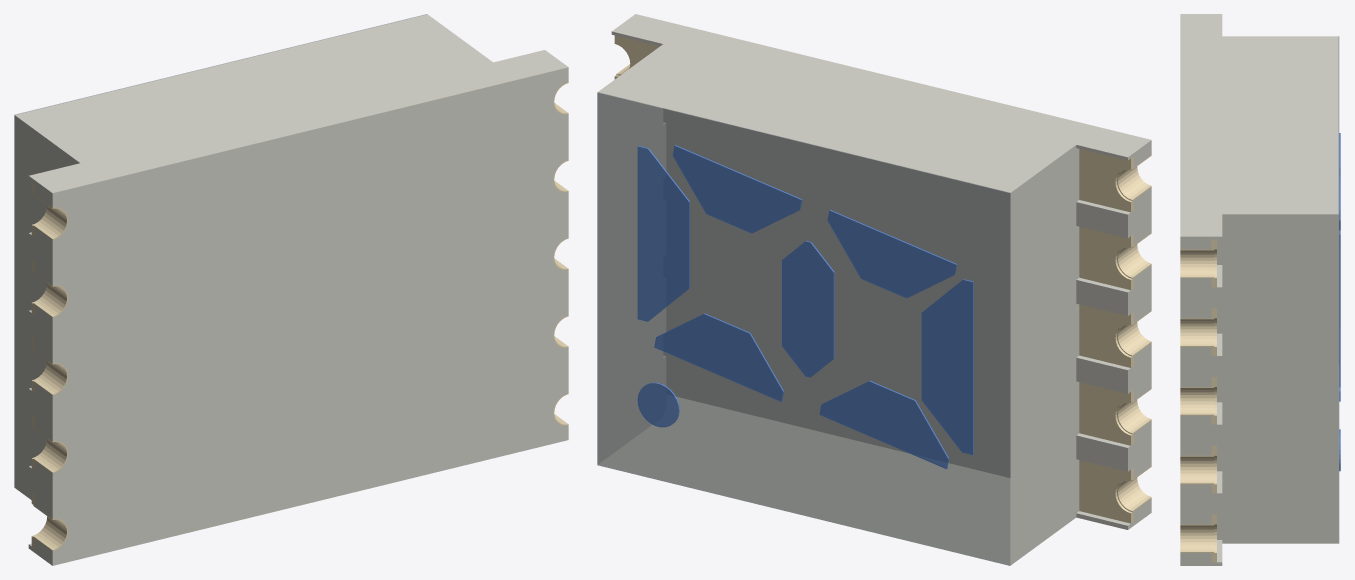
The model's file is KCSC02-136.glb.
3 views of the same model, side by side, from view 1: azimuth 30°, elevation 25°; view 2: azimuth 150°, elevation 25°; view 3: azimuth 270°, elevation 25° (orthographic). The views are drawn at different scales.
Parts seen in each view (by area): view 1: Shape_IndexedFaceSet.077, Shape_IndexedFaceSet.063, Shape_IndexedFaceSet.065, Shape_IndexedFaceSet.124, Shape_IndexedFaceSet.118, Shape_IndexedFaceSet.122, Shape_IndexedFaceSet.120, Shape_IndexedFaceSet.053; view 2: Shape_IndexedFaceSet, Shape_IndexedFaceSet.077, Shape_IndexedFaceSet.063, Shape_IndexedFaceSet.064, Shape_IndexedFaceSet.065, Shape_IndexedFaceSet.062, Shape_IndexedFaceSet.061, Shape_IndexedFaceSet.057, Shape_IndexedFaceSet.059, Shape_IndexedFaceSet.054, Shape_IndexedFaceSet.060, Shape_IndexedFaceSet.058 (+21 smaller); view 3: Shape_IndexedFaceSet.063, Shape_IndexedFaceSet.062, Shape_IndexedFaceSet.073, Shape_IndexedFaceSet.071, Shape_IndexedFaceSet.067, Shape_IndexedFaceSet.069, Shape_IndexedFaceSet.075, Shape_IndexedFaceSet.096, Shape_IndexedFaceSet.104, Shape_IndexedFaceSet.108, Shape_IndexedFaceSet.100, Shape_IndexedFaceSet.050 (+17 smaller).
Boxes of the visible parts, x1,y1,x2,y2 form: Shape_IndexedFaceSet.077: (52,67,568,565); Shape_IndexedFaceSet.063: (16,15,568,193); Shape_IndexedFaceSet.065: (15,116,79,499); Shape_IndexedFaceSet.124: (28,228,52,284); Shape_IndexedFaceSet.118: (28,462,52,517); Shape_IndexedFaceSet.122: (28,306,52,361); Shape_IndexedFaceSet.120: (28,384,52,439); Shape_IndexedFaceSet.053: (14,115,15,488); Shape_IndexedFaceSet: (597,93,1010,565); Shape_IndexedFaceSet.077: (663,108,1010,477); Shape_IndexedFaceSet.063: (599,14,1151,191); Shape_IndexedFaceSet.064: (599,397,1010,564); Shape_IndexedFaceSet.065: (1011,145,1076,564); Shape_IndexedFaceSet.062: (599,92,662,463); Shape_IndexedFaceSet.061: (637,146,689,321); Shape_IndexedFaceSet.057: (921,280,972,454); Shape_IndexedFaceSet.059: (782,241,833,377); Shape_IndexedFaceSet.054: (654,314,782,401); Shape_IndexedFaceSet.060: (672,145,801,233); Shape_IndexedFaceSet.058: (827,210,956,298); Shape_IndexedFaceSet.063: (1180,14,1336,236); Shape_IndexedFaceSet.062: (1222,214,1336,543); Shape_IndexedFaceSet.073: (1222,423,1264,471); Shape_IndexedFaceSet.071: (1222,354,1264,402); Shape_IndexedFaceSet.067: (1222,217,1264,264); Shape_IndexedFaceSet.069: (1222,286,1264,333); Shape_IndexedFaceSet.075: (1222,492,1264,539); Shape_IndexedFaceSet.096: (1180,279,1222,317); Shape_IndexedFaceSet.104: (1180,416,1222,454); Shape_IndexedFaceSet.108: (1180,485,1222,523); Shape_IndexedFaceSet.100: (1180,348,1222,385); Shape_IndexedFaceSet.050: (1336,214,1338,543).
Size of the model in its own units: 3.94 by 2.72 by 1.2.
